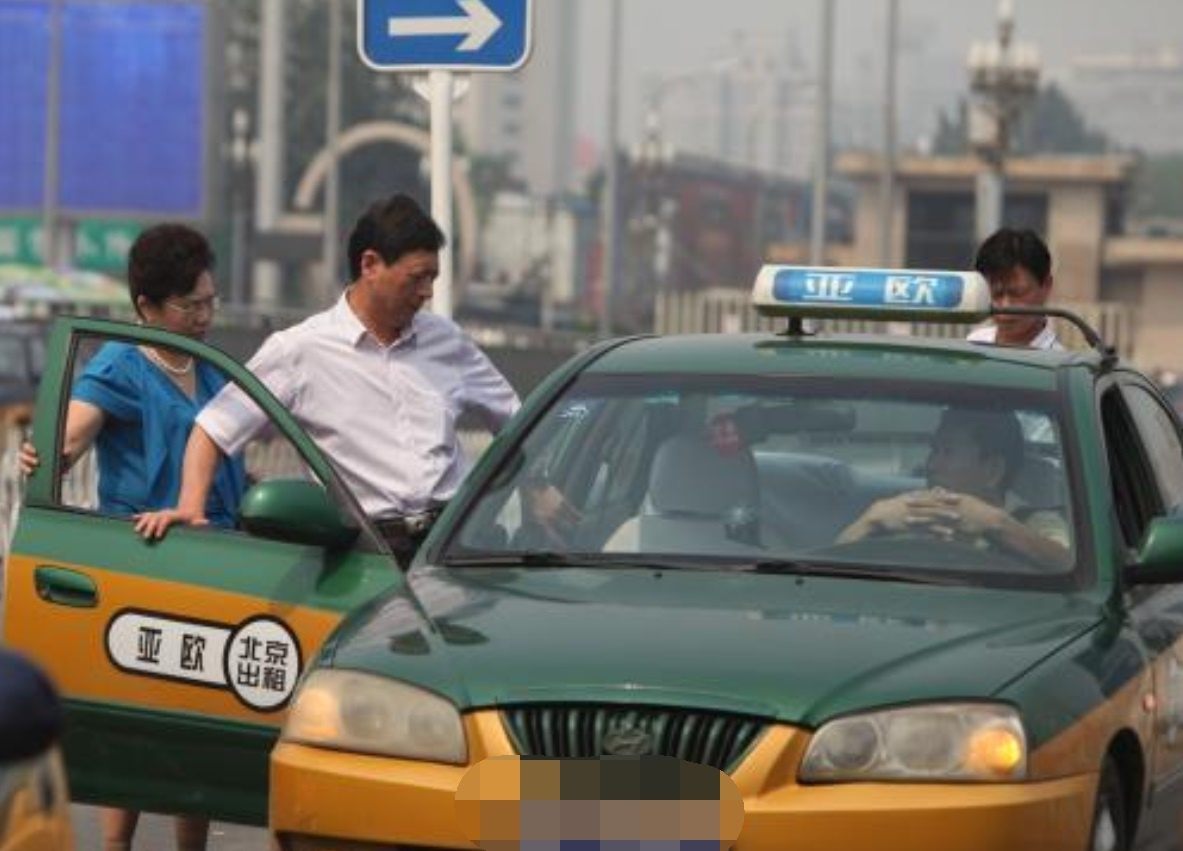taxi: (262, 262, 1183, 847)
